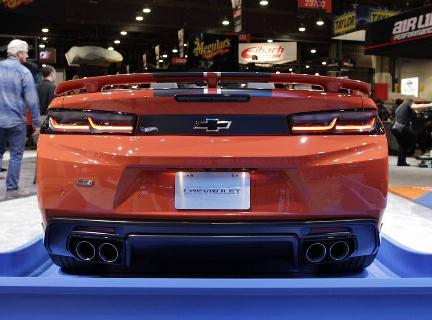雪佛兰-科迈罗: (34, 67, 395, 278)
